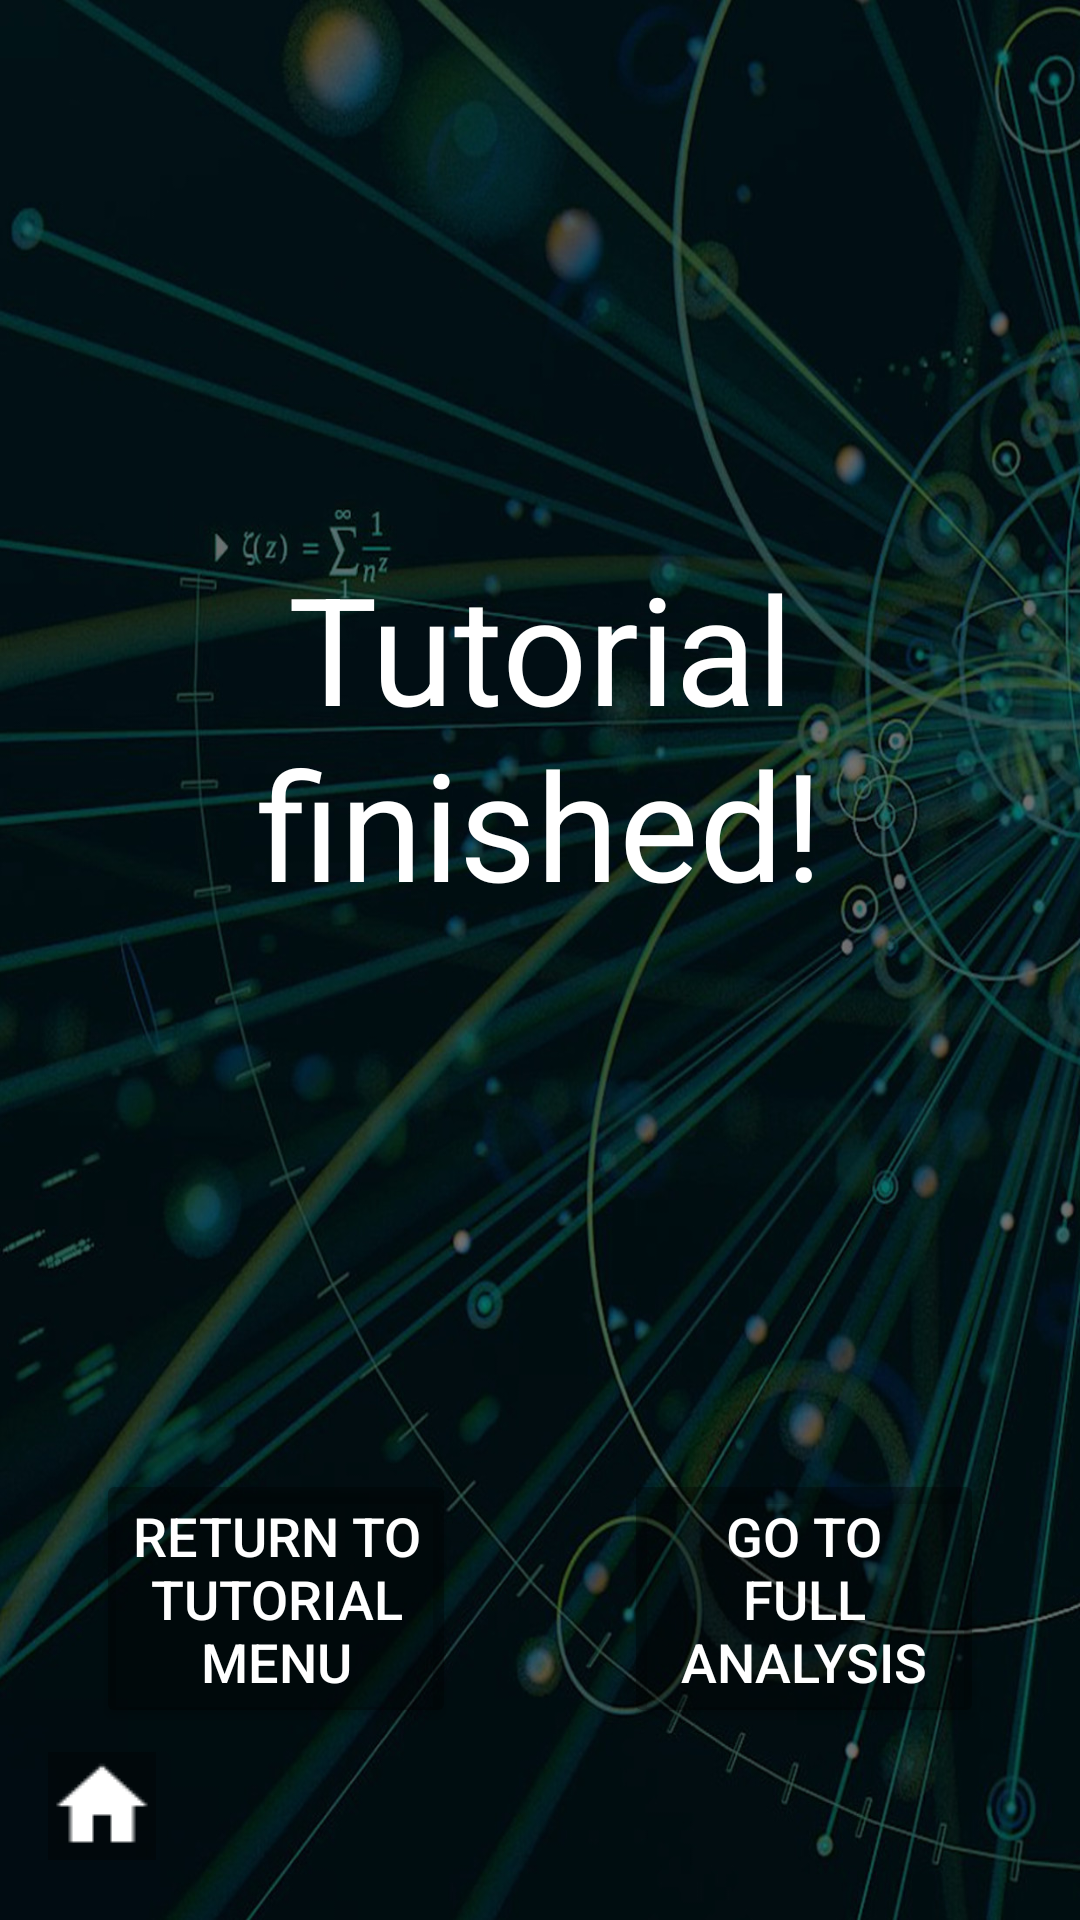

Where icons sit on this 1080*1920 app screen, as Rect(x1, y1, x2, y2):
home: Rect(56, 1765, 148, 1843)
